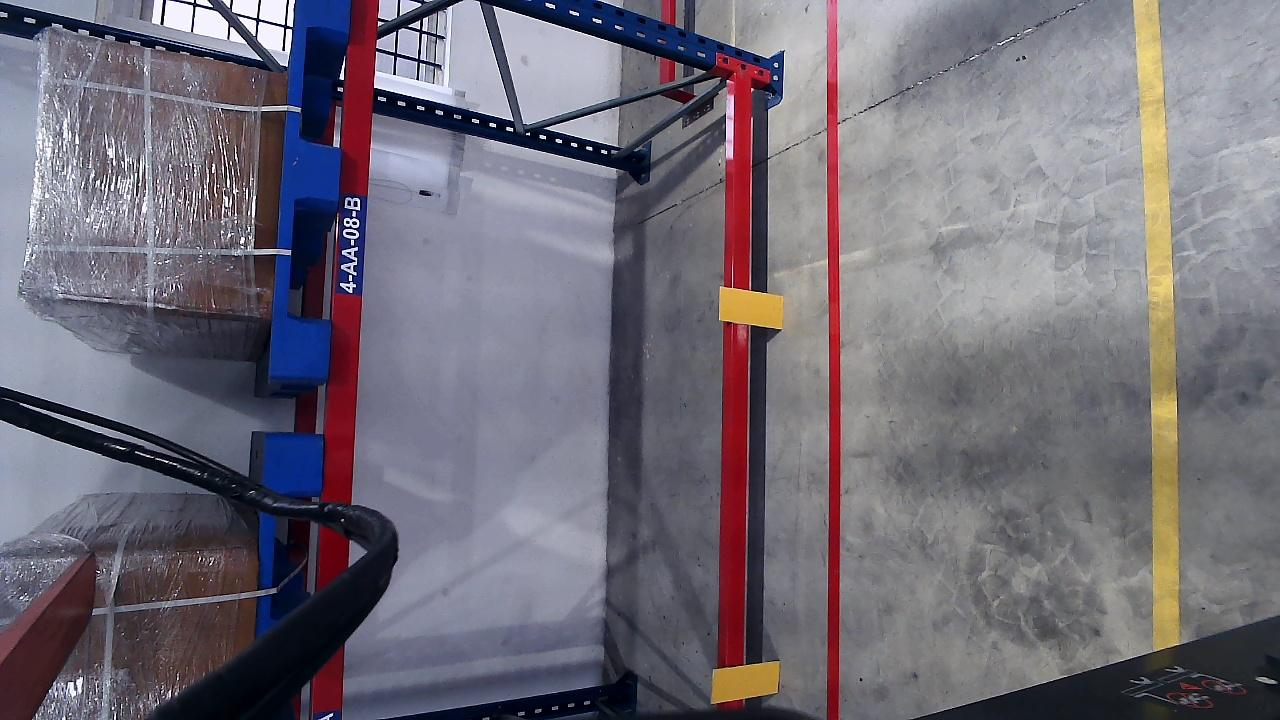h_rack: (319, 0, 380, 501), (715, 77, 758, 663)
orange_strip: (711, 660, 780, 702), (719, 285, 784, 328)
red_line: (825, 0, 841, 720)
small_pallet: (272, 0, 349, 384)
yellow_line: (1135, 0, 1181, 660)
